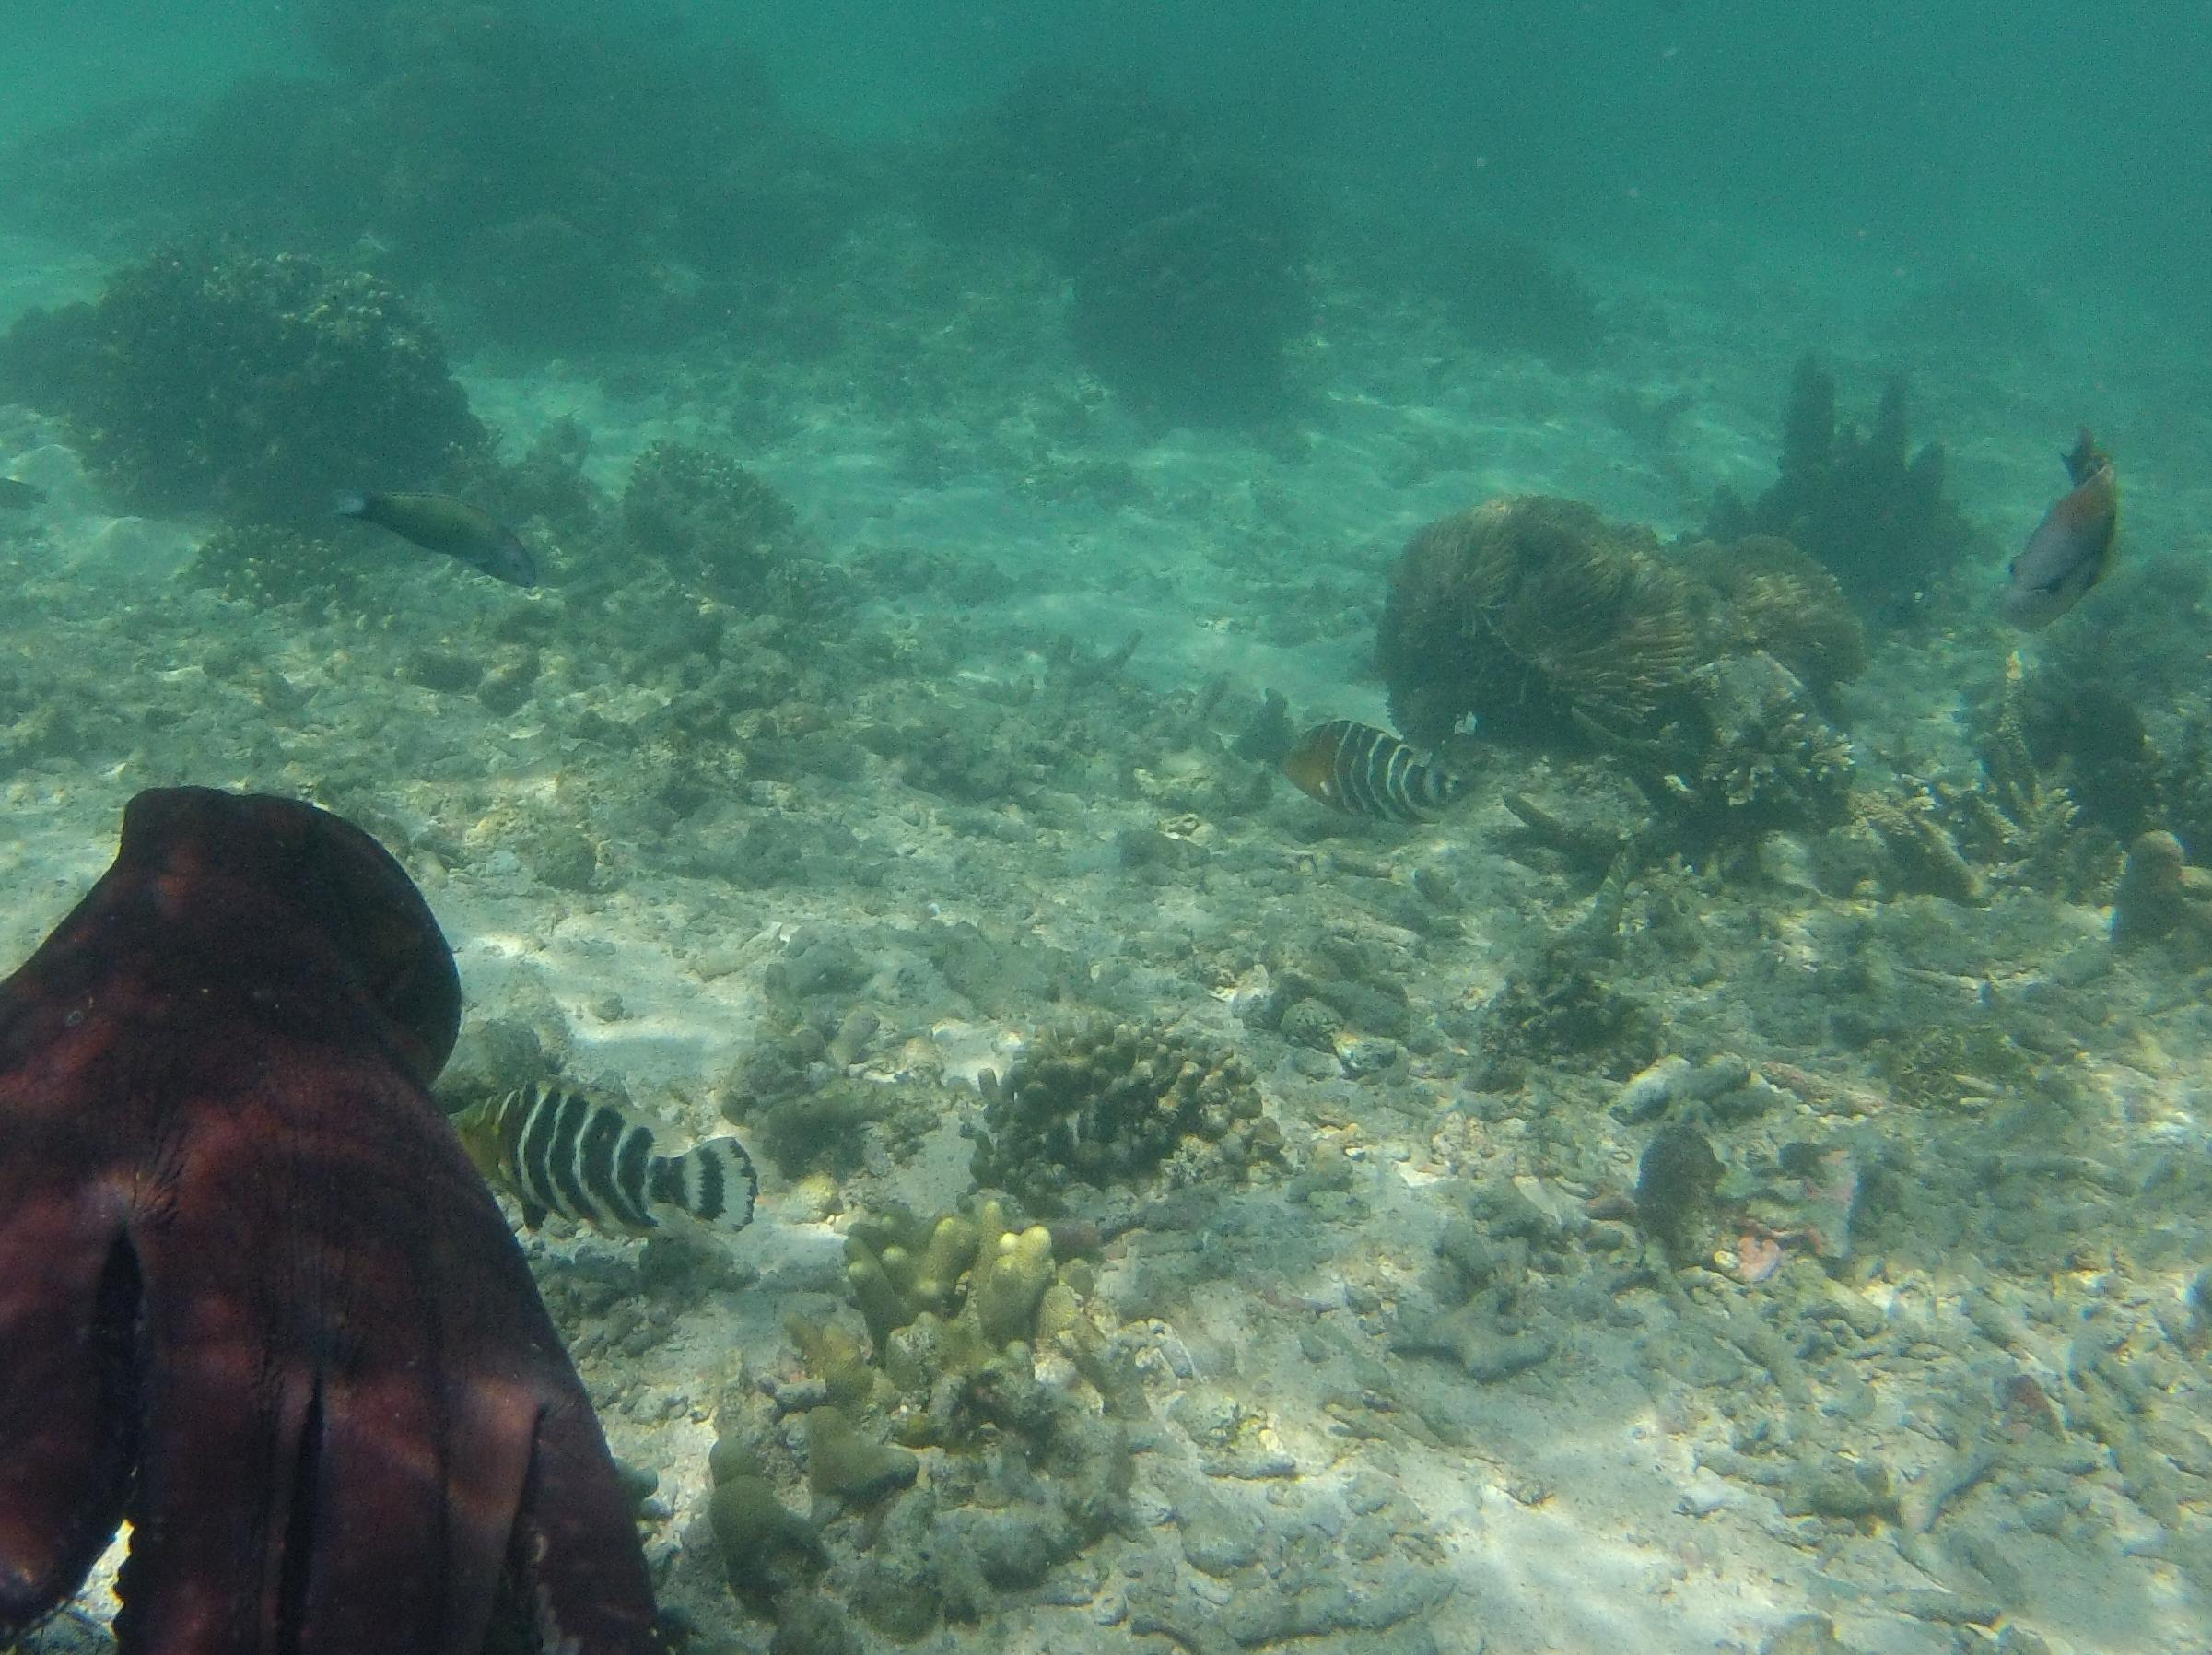Fish: (431, 1060, 775, 1262), (1267, 708, 1493, 850)
